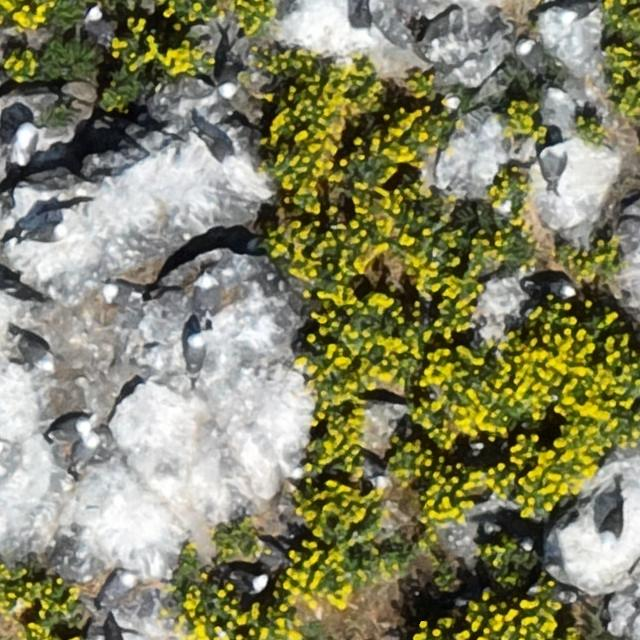umineko: (94, 564, 138, 614), (11, 326, 53, 374), (9, 120, 47, 171), (203, 121, 239, 172), (348, 0, 379, 46), (196, 272, 217, 316), (74, 434, 98, 472), (540, 146, 564, 183), (51, 415, 89, 438), (85, 8, 109, 40), (228, 572, 264, 592), (28, 224, 68, 242), (187, 333, 205, 371), (218, 63, 238, 96), (602, 508, 622, 540), (518, 42, 540, 70), (105, 286, 137, 304), (546, 280, 574, 299)
